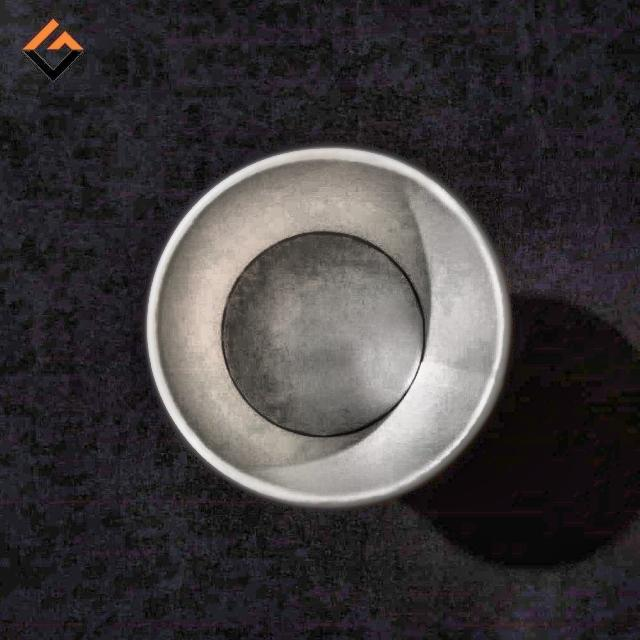Cup: (132, 144, 512, 506)
